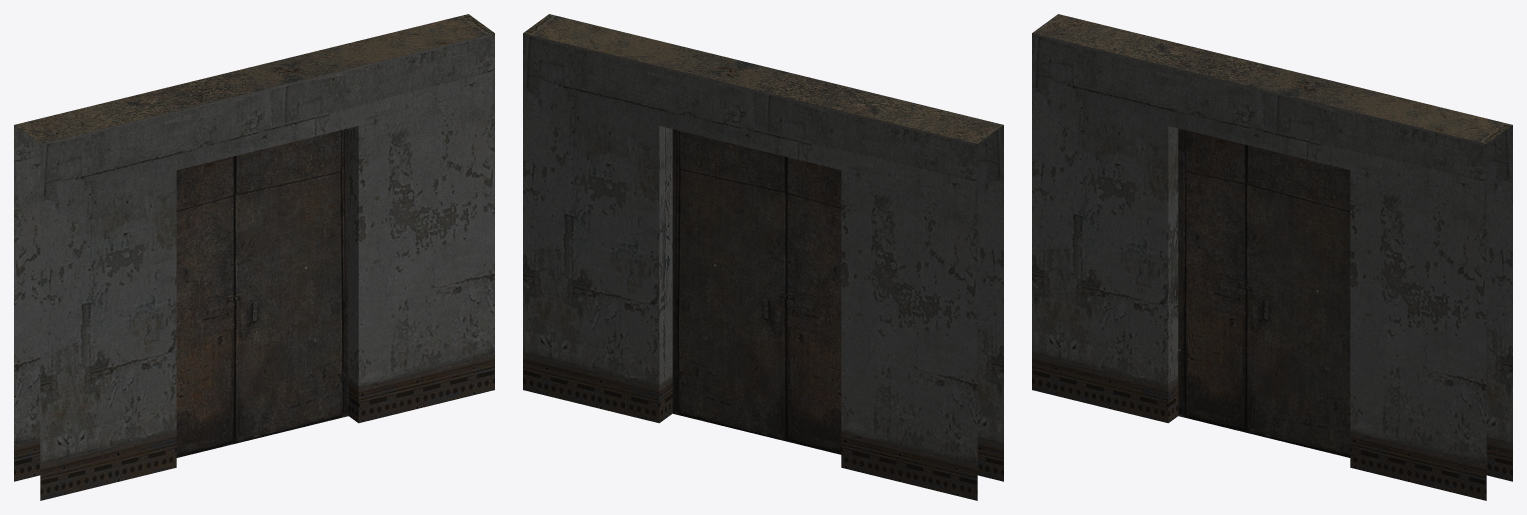
File: doorway_rtx_1_wide.obj
The picture shows the model from 3 angles, left to right: view 1: azimuth 30°, elevation 25°; view 2: azimuth 150°, elevation 25°; view 3: azimuth 330°, elevation 25°; orthographic projection.
Parts seen in each view (by area): view 1: doorway_rtx_1_wide, door_rtx_1_piece_2, door_rtx_1_piece_1; view 2: doorway_rtx_1_wide, door_rtx_1_piece_2, door_rtx_1_piece_1; view 3: doorway_rtx_1_wide, door_rtx_1_piece_2, door_rtx_1_piece_1.
Boxes of the visible parts, x1,y1,x2,y2 form: doorway_rtx_1_wide: (14,14,494,500); door_rtx_1_piece_2: (235,128,348,443); door_rtx_1_piece_1: (176,156,234,457); doorway_rtx_1_wide: (523,14,1003,500); door_rtx_1_piece_2: (672,129,786,441); door_rtx_1_piece_1: (786,157,841,454); doorway_rtx_1_wide: (1032,14,1512,500); door_rtx_1_piece_2: (1246,145,1350,457); door_rtx_1_piece_1: (1178,128,1246,432).
Size of the model in its own units: 4 by 3 by 0.4.
